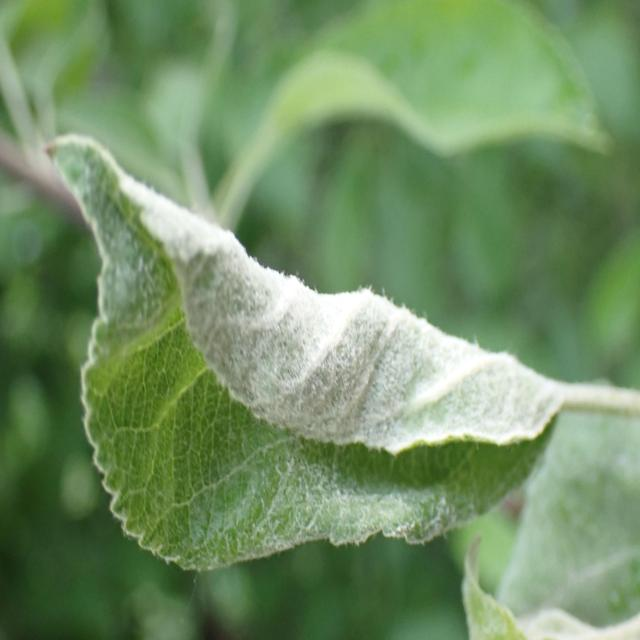Powdery_mildew: (31, 96, 577, 584)
